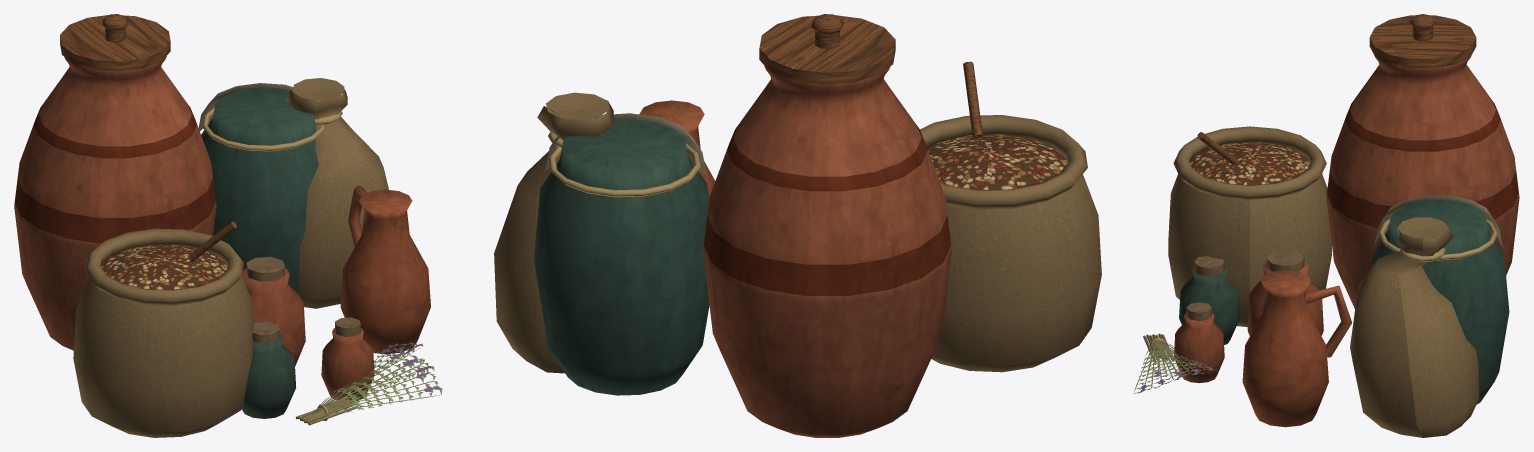
Rendered from prop_storageJars.glb.
The picture shows the model from 3 angles, left to right: view 1: azimuth 30°, elevation 25°; view 2: azimuth 150°, elevation 25°; view 3: azimuth 270°, elevation 25°; orthographic projection. The views are drawn at different scales.
Parts seen in each view (by area): view 1: prop; view 2: prop; view 3: prop.
Part boxes in pixels (box(x1,y1,x2,y2)): prop: box(14, 14, 442, 437); prop: box(494, 14, 1101, 437); prop: box(1133, 14, 1519, 437).
Size of the model in its own units: 0.8432 by 0.664 by 0.7656.
Materials: 11 (8 with a texture image).
